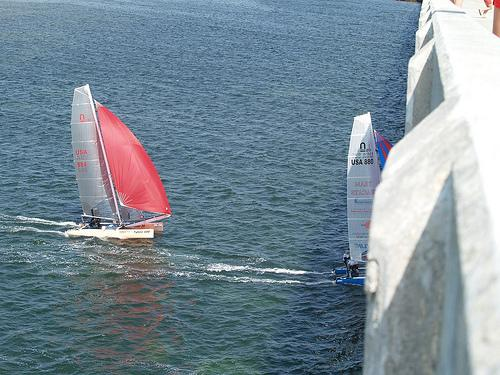Ship: (67, 85, 172, 240), (334, 111, 395, 287)
